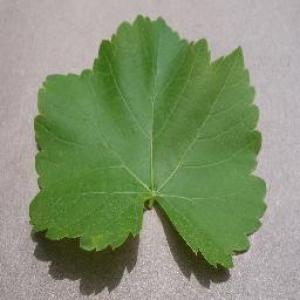Folha: (28, 13, 267, 269)
